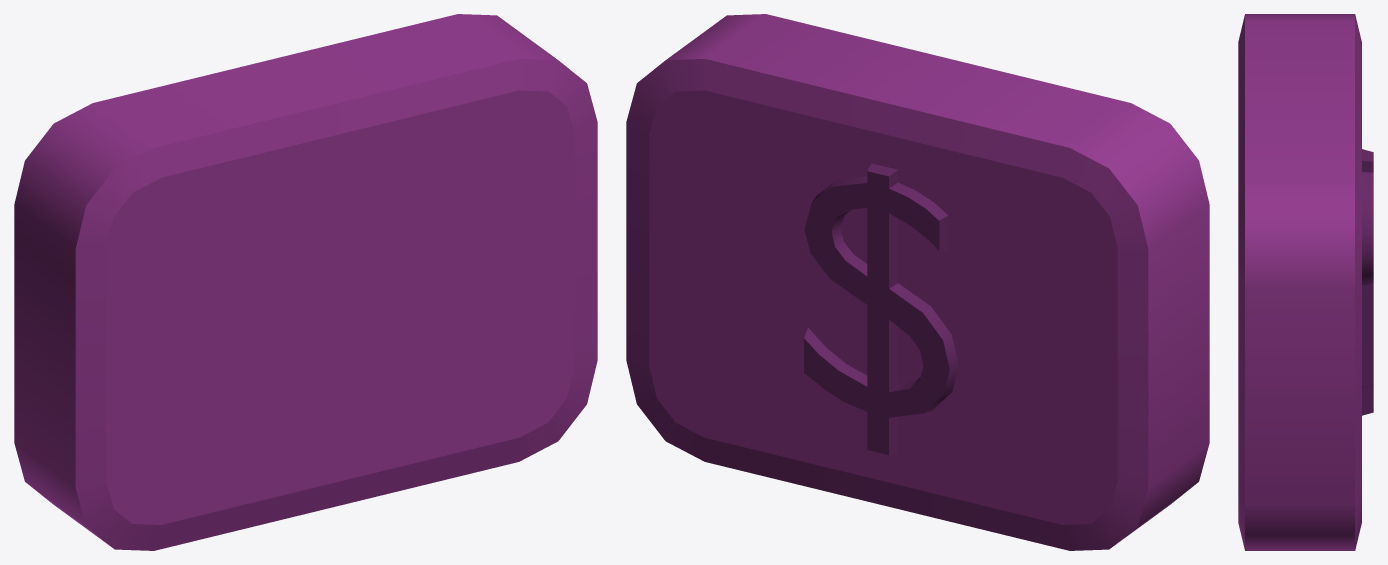
Rendered from Currency Small.fbx.
The picture shows the model from 3 angles, left to right: view 1: azimuth 30°, elevation 25°; view 2: azimuth 150°, elevation 25°; view 3: azimuth 270°, elevation 25°; orthographic projection. The views are drawn at different scales.
Parts seen in each view (by area): view 1: Currency Small 1; view 2: Currency Small 1; view 3: Currency Small 1.
Part boxes in pixels (x1=…): Currency Small 1: x1=14, y1=14, x2=597, y2=550; Currency Small 1: x1=626, y1=14, x2=1209, y2=550; Currency Small 1: x1=1238, y1=14, x2=1373, y2=550.
Size of the model in its own units: 0.3021 by 0.2229 by 0.0756.
